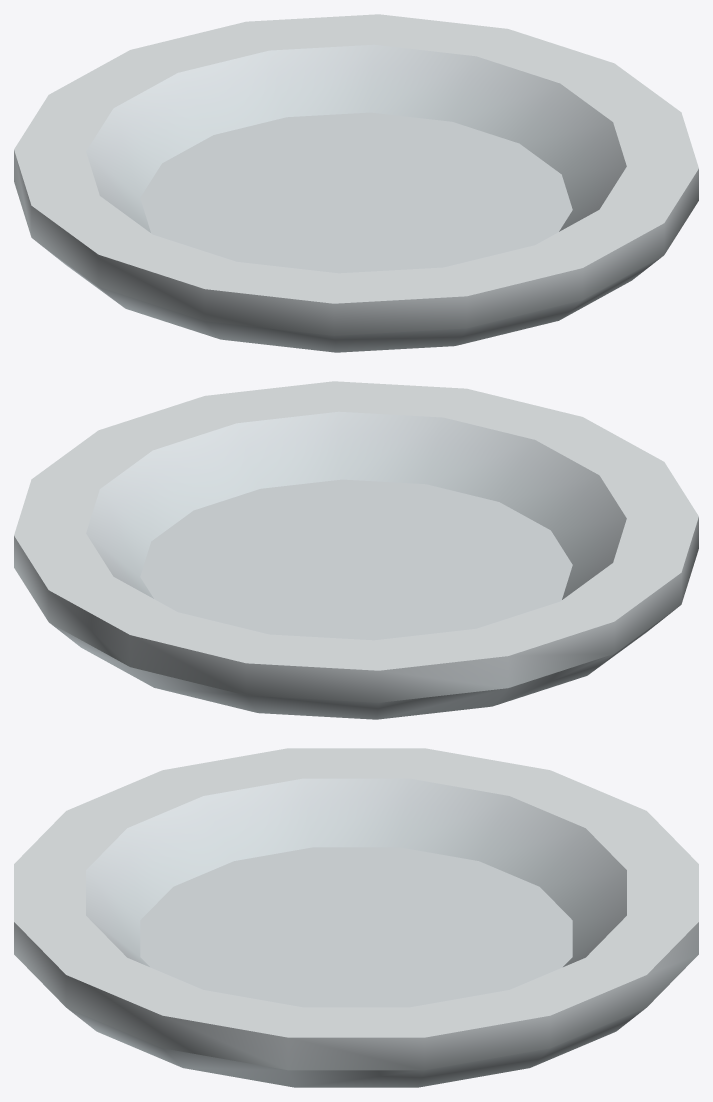
File: kk_plate.glb
The picture shows the model from 3 angles, top to bottom: view 1: azimuth 30°, elevation 25°; view 2: azimuth 150°, elevation 25°; view 3: azimuth 270°, elevation 25°; orthographic projection.
Parts seen in each view (by area): view 1: plate; view 2: plate; view 3: plate.
Part boxes in pixels (x1=…): plate: x1=14, y1=14, x2=698, y2=352; plate: x1=14, y1=381, x2=698, y2=719; plate: x1=14, y1=748, x2=698, y2=1087.
Size of the model in its own units: 0.22 by 0.0232 by 0.22.
1 material, 1 textured.
